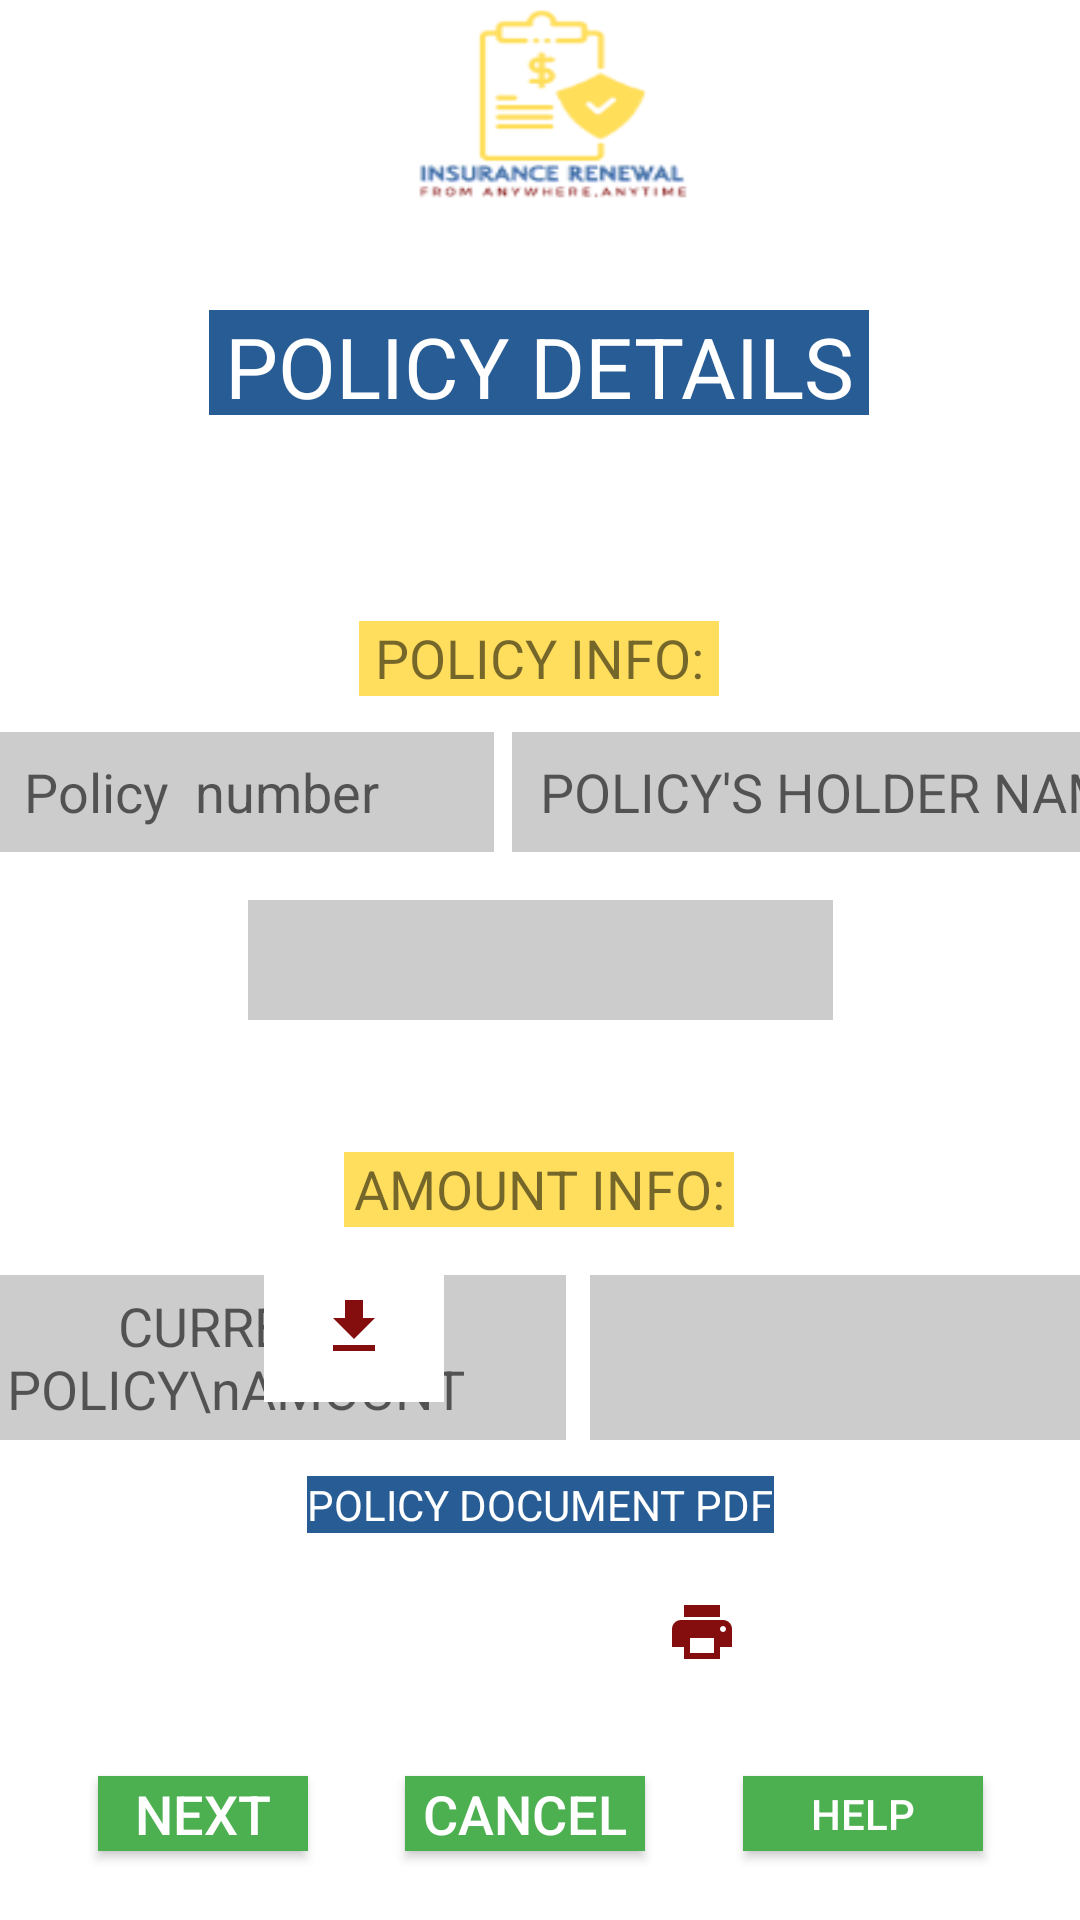

Named icons in this screenshot (1080 × 1920) and their bounding boxes, (x1, y1, x2, y2):
download: (333, 1300, 375, 1351)
print: (672, 1605, 732, 1659)
